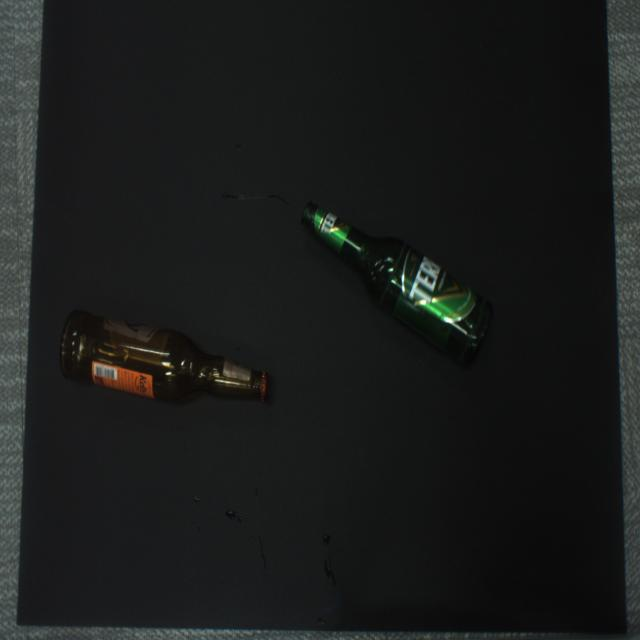beer-bottle: (302, 205, 493, 367), (61, 311, 268, 405)
